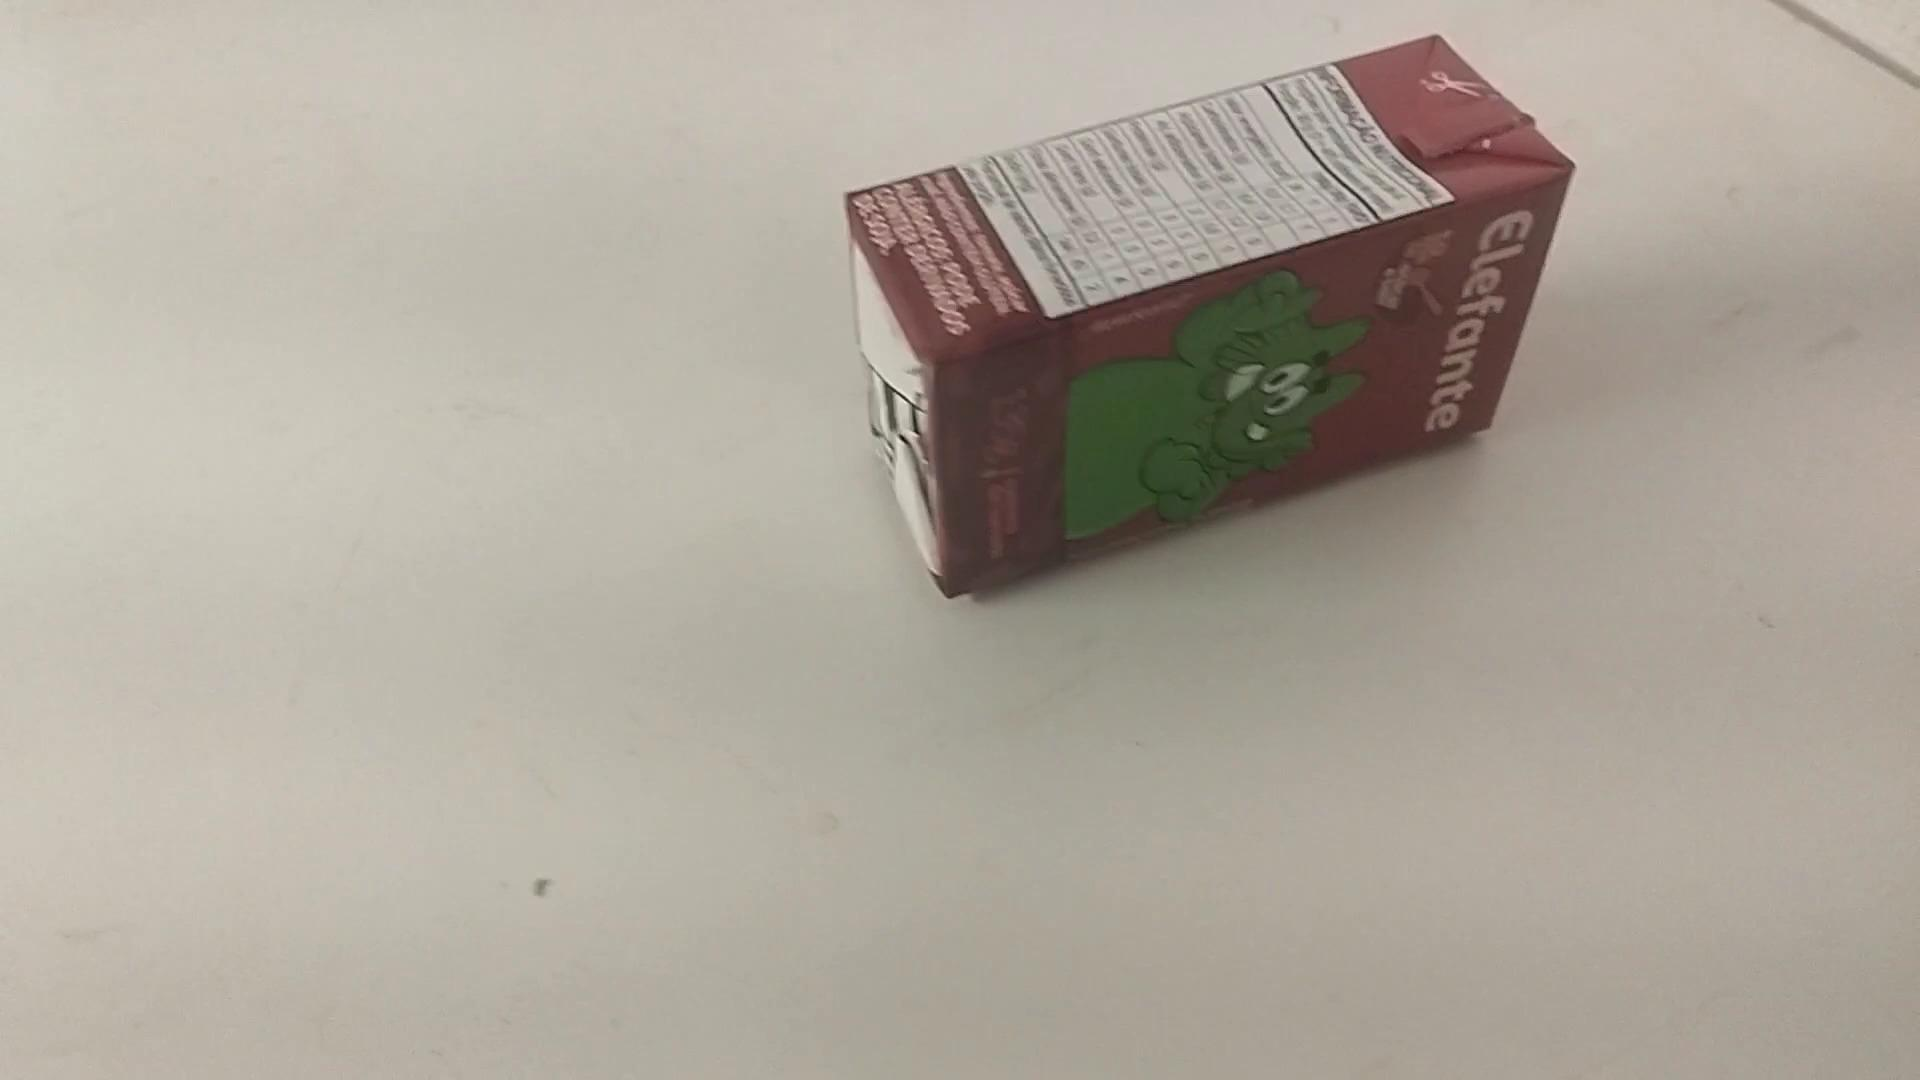tomate: (818, 28, 1576, 622)
